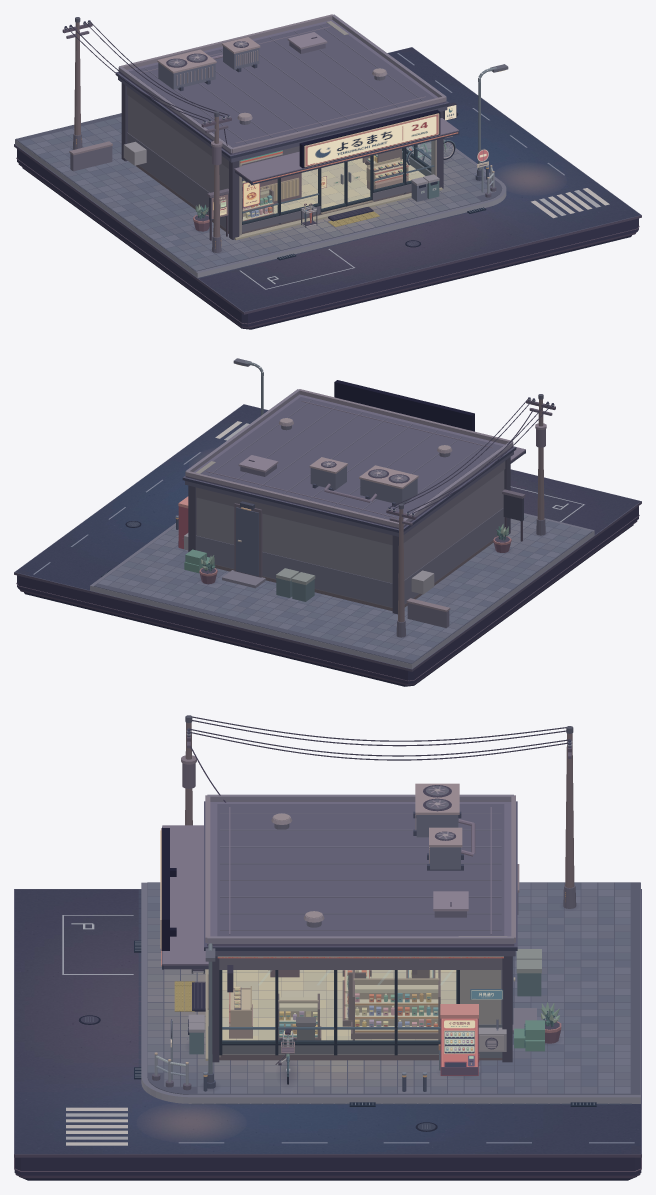
File: yorumachi-mart-v2.glb
3 views of the same model, one above another, from view 1: azimuth 30°, elevation 25°; view 2: azimuth 150°, elevation 25°; view 3: azimuth 270°, elevation 25° (orthographic). The views are drawn at different scales.
Parts seen in each view (by area): view 1: 01 · Square plinth and streets, 02 · Yorumachi Mart | architecture, 11 · Utility wires, service roofs and street details, 03 · Original shop identity and canopy, 04 · Interior | shelves and packaged goods, 07 · Shopfront props, 10 · Corner railing, street light and utility pole, 05 · Interior | chillers and service counter, 08 · Vending machine and east alley; view 2: 01 · Square plinth and streets, 02 · Yorumachi Mart | architecture, 11 · Utility wires, service roofs and street details, 08 · Vending machine and east alley, 03 · Original shop identity and canopy, 07 · Shopfront props; view 3: 01 · Square plinth and streets, 02 · Yorumachi Mart | architecture, 11 · Utility wires, service roofs and street details, 04 · Interior | shelves and packaged goods, 03 · Original shop identity and canopy, 08 · Vending machine and east alley, 10 · Corner railing, street light and utility pole, 07 · Shopfront props, 09 · Roadside bicycle.
Part boxes in pixels (left/top/right/bottom): 01 · Square plinth and streets: left=14, top=47, right=641, bottom=329; 02 · Yorumachi Mart | architecture: left=115, top=14, right=449, bottom=240; 11 · Utility wires, service roofs and street details: left=62, top=17, right=387, bottom=252; 03 · Original shop identity and canopy: left=234, top=102, right=459, bottom=184; 04 · Interior | shelves and packaged goods: left=242, top=148, right=408, bottom=221; 07 · Shopfront props: left=207, top=174, right=439, bottom=240; 10 · Corner railing, street light and utility pole: left=473, top=64, right=551, bottom=197; 05 · Interior | chillers and service counter: left=242, top=173, right=326, bottom=207; 08 · Vending machine and east alley: left=123, top=141, right=146, bottom=165; 01 · Square plinth and streets: left=14, top=404, right=641, bottom=686; 02 · Yorumachi Mart | architecture: left=182, top=389, right=516, bottom=614; 11 · Utility wires, service roofs and street details: left=199, top=394, right=555, bottom=637; 08 · Vending machine and east alley: left=178, top=496, right=434, bottom=601; 03 · Original shop identity and canopy: left=334, top=380, right=525, bottom=463; 07 · Shopfront props: left=502, top=489, right=525, bottom=541; 01 · Square plinth and streets: left=14, top=882, right=641, bottom=1180; 02 · Yorumachi Mart | architecture: left=204, top=794, right=517, bottom=1062; 11 · Utility wires, service roofs and street details: left=181, top=715, right=576, bottom=1044; 04 · Interior | shelves and packaged goods: left=229, top=970, right=440, bottom=1040; 03 · Original shop identity and canopy: left=160, top=825, right=503, bottom=992; 08 · Vending machine and east alley: left=438, top=949, right=544, bottom=1076; 10 · Corner railing, street light and utility pole: left=152, top=943, right=503, bottom=1134; 07 · Shopfront props: left=187, top=969, right=205, bottom=1054; 09 · Roadside bicycle: left=275, top=1028, right=296, bottom=1084.
Size of the model in its own units: 14 by 5.55 by 14.
15 materials, 11 textured.
